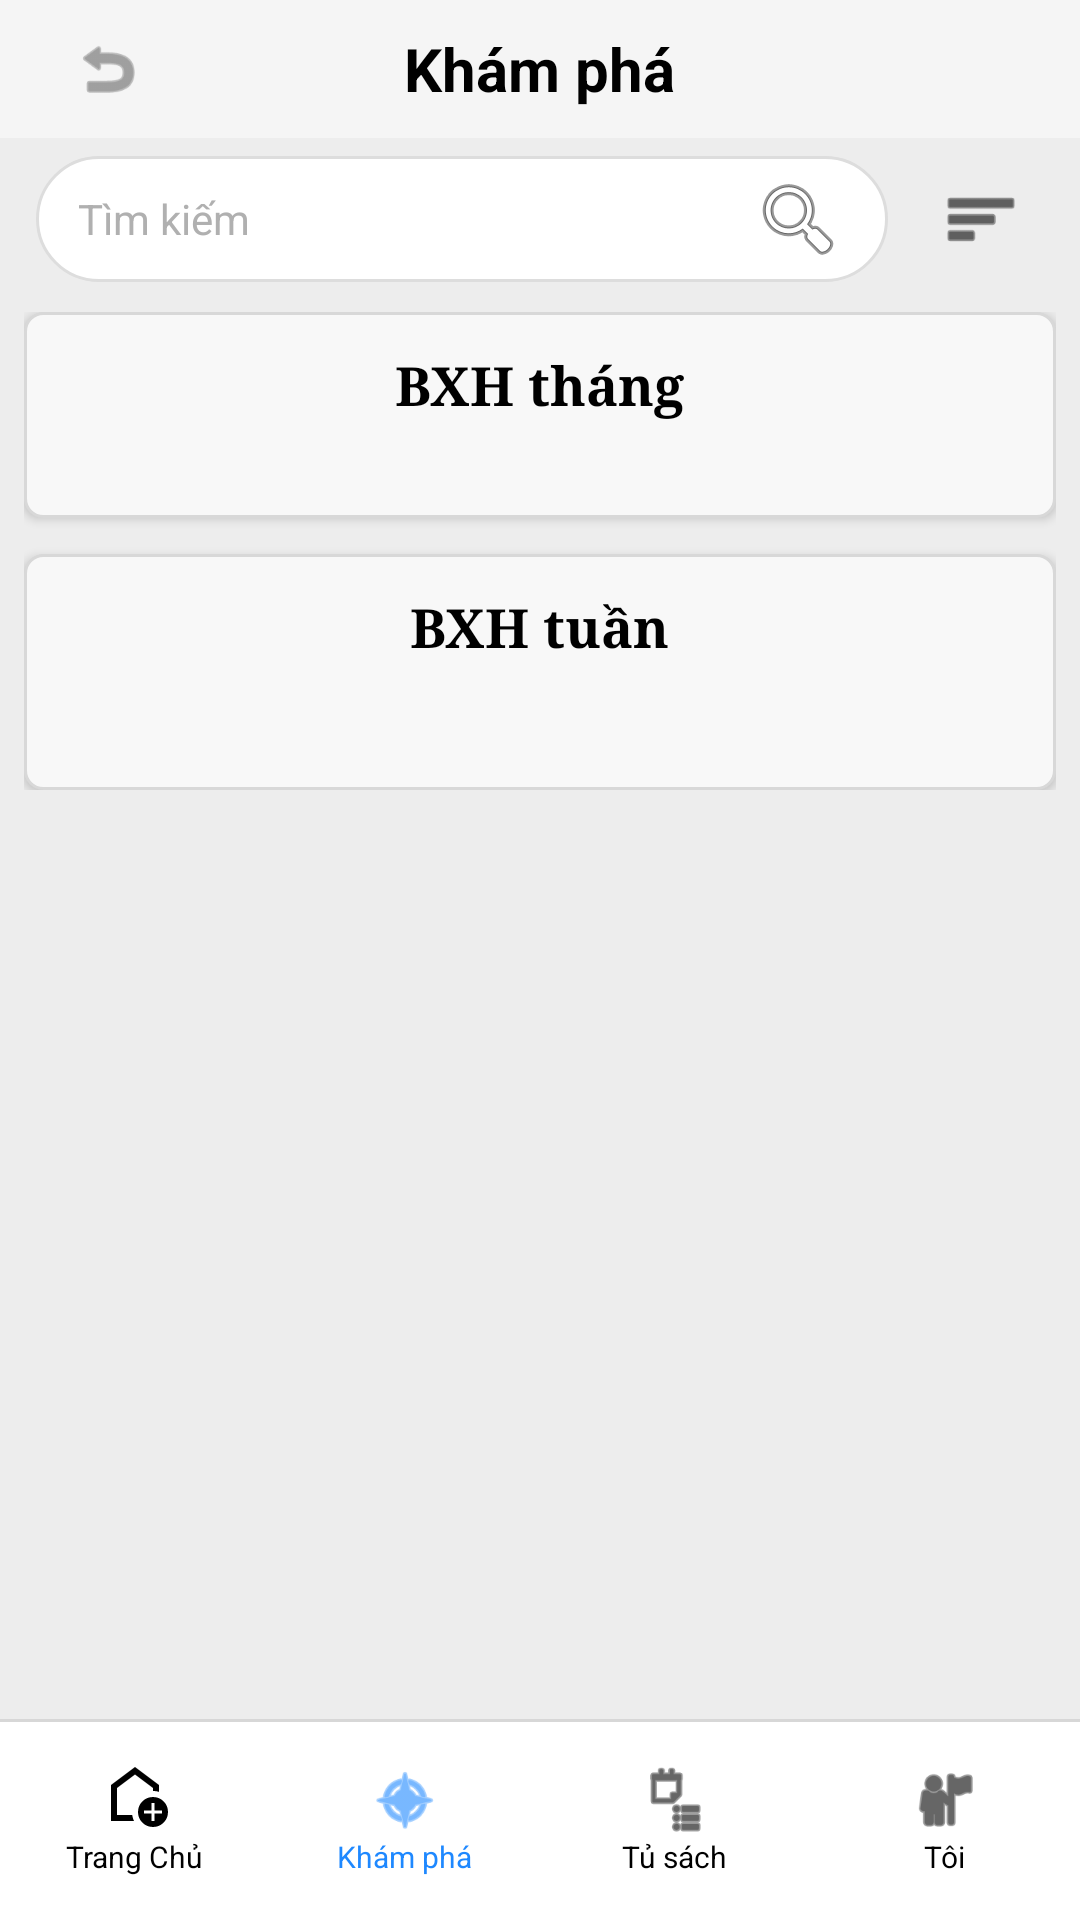

Locate icon controls on the screen. Image size 1080x1920, boxes as [x1=x1, y1=y1, x2=x2, y2=y2].
agenda: [x1=650, y1=1768, x2=701, y2=1832]
compass: [x1=376, y1=1772, x2=433, y2=1829]
myplaces: [x1=919, y1=1773, x2=973, y2=1827]
revert: [x1=83, y1=46, x2=135, y2=93]
sort by size: [x1=947, y1=197, x2=1015, y2=241]
